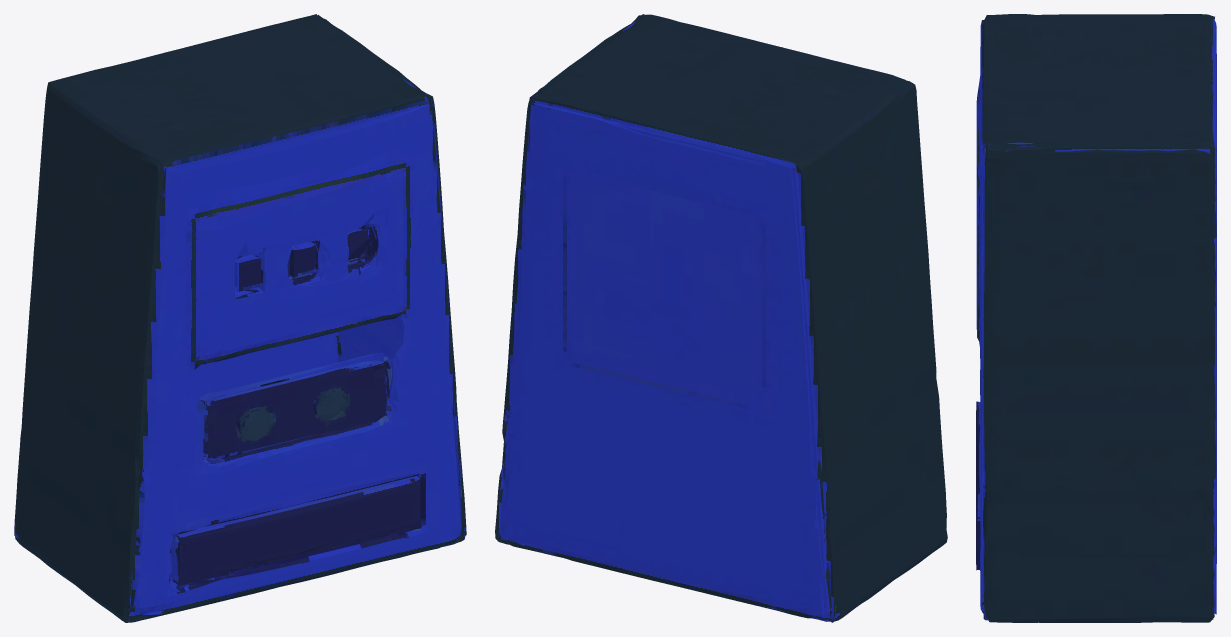
The model's file is Arcade_Topwar_QuadRetro.glb.
The picture shows the model from 3 angles, left to right: view 1: azimuth 30°, elevation 25°; view 2: azimuth 150°, elevation 25°; view 3: azimuth 270°, elevation 25°; orthographic projection.
Visible parts, largest first — view 1: Arcade_Topwar_QuadRemesh; view 2: Arcade_Topwar_QuadRemesh; view 3: Arcade_Topwar_QuadRemesh.
Boxes of the visible parts, x1,y1,x2,y2 form: Arcade_Topwar_QuadRemesh: (14, 14, 466, 622); Arcade_Topwar_QuadRemesh: (495, 14, 947, 622); Arcade_Topwar_QuadRemesh: (976, 14, 1216, 622).
Bounding box in the file's own units: 1.57 × 2 × 0.9425.
Materials: 1 (1 with a texture image).
